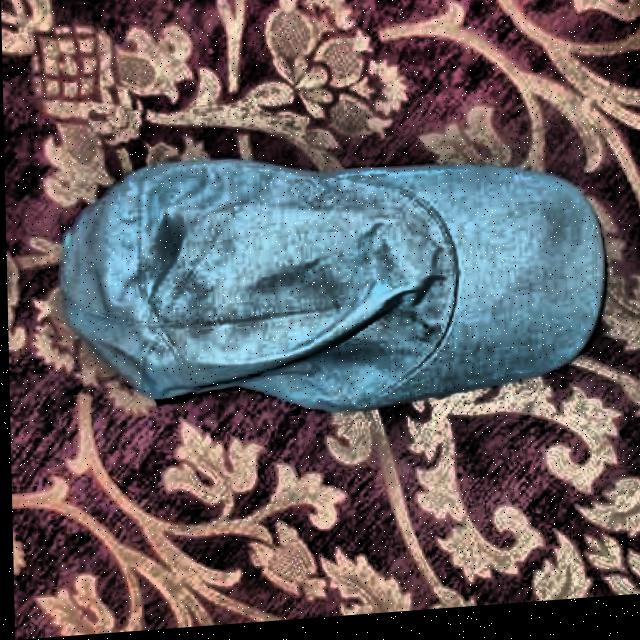clothes: (51, 130, 607, 438)
